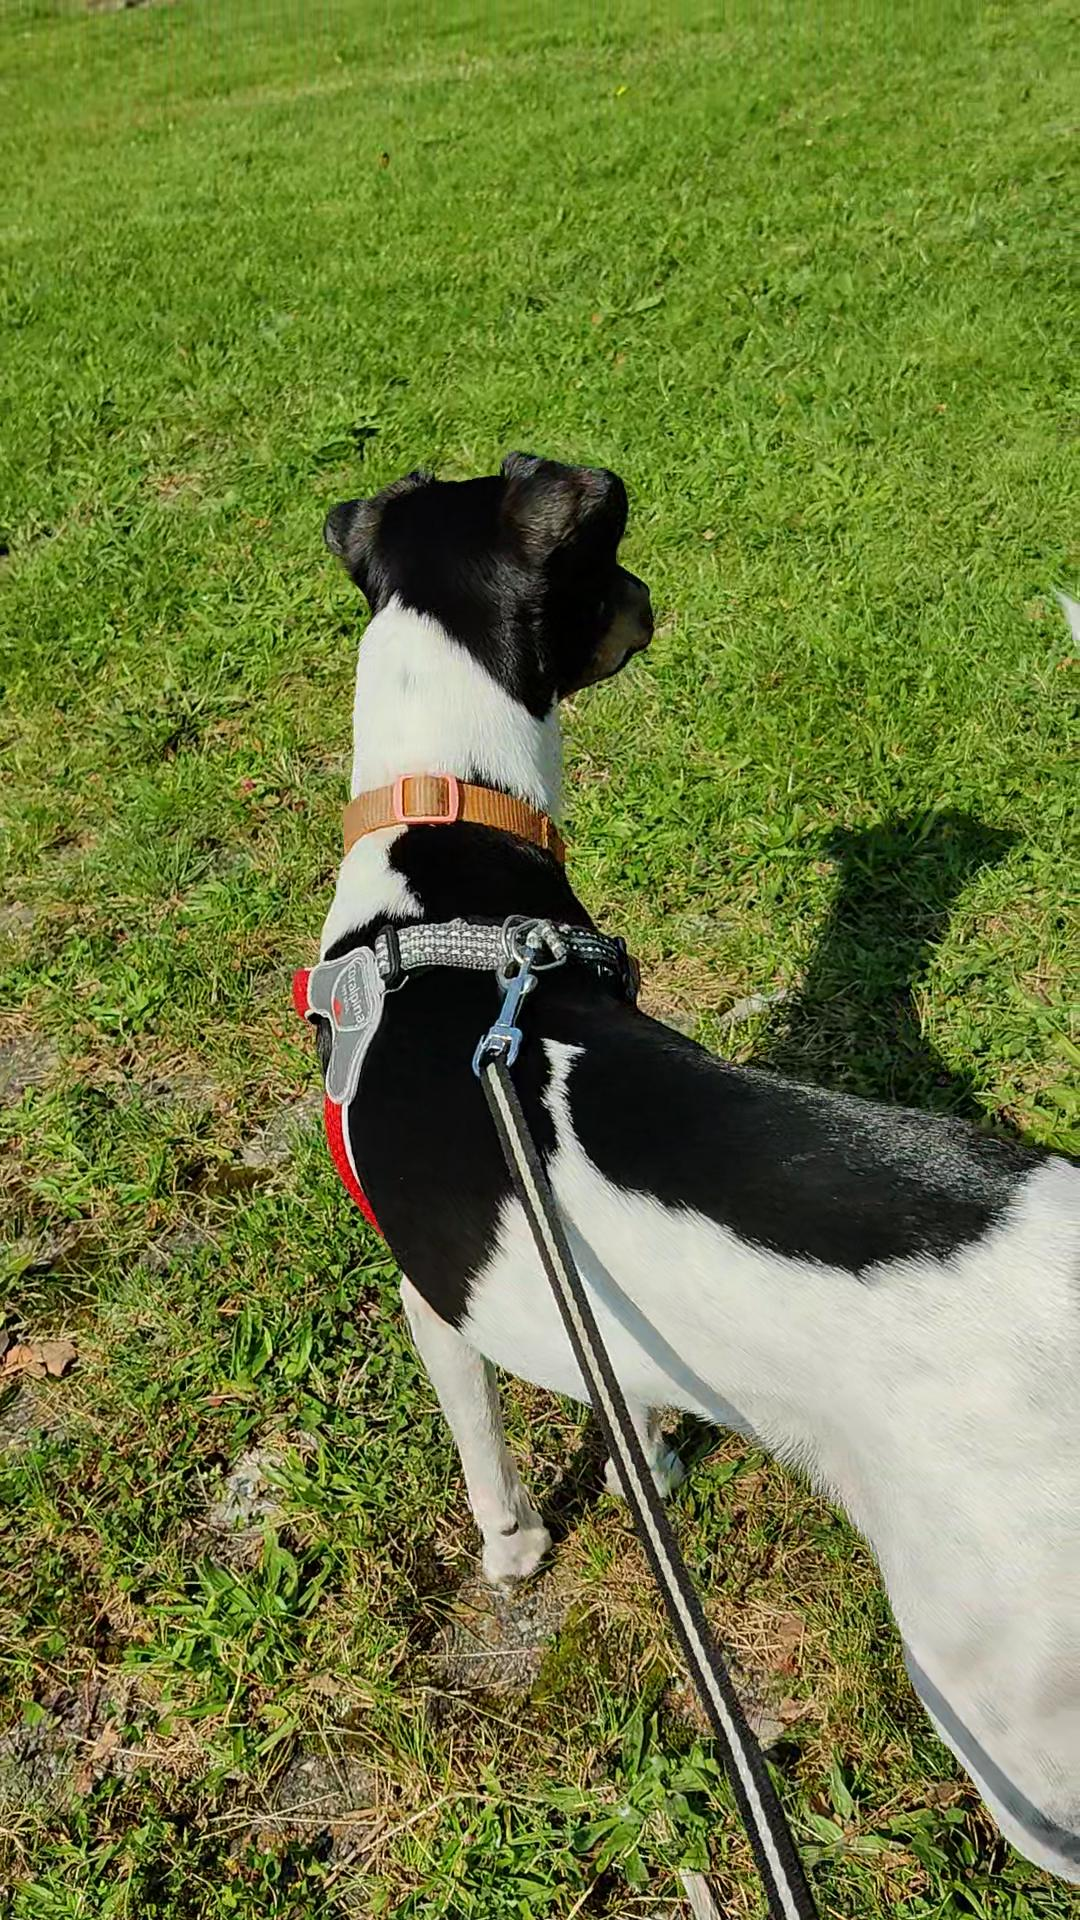Dog: (295, 448, 1079, 1909)
